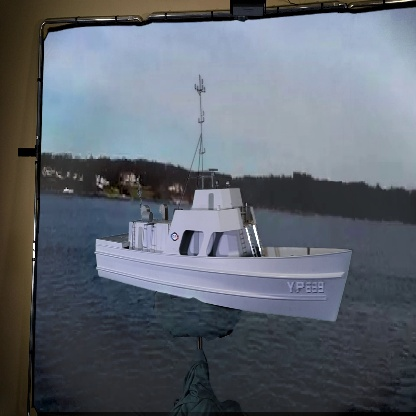YP689: (94, 73, 353, 324)
